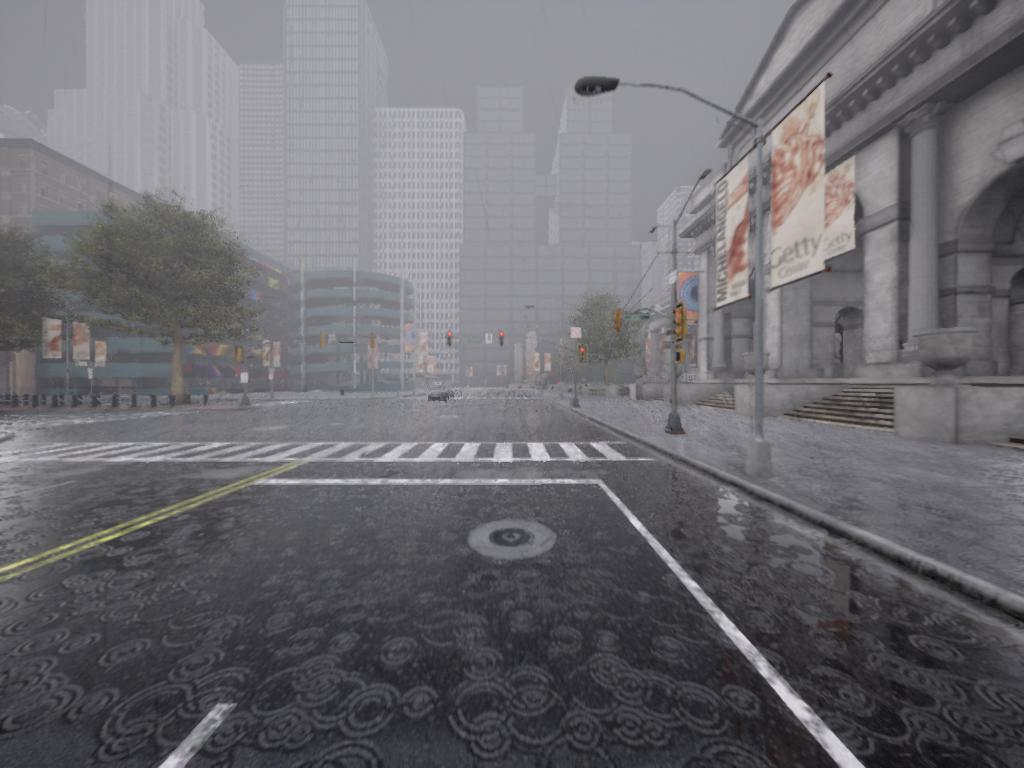traffic_light: (673, 313, 689, 343), (613, 312, 623, 334), (235, 348, 245, 365), (676, 350, 686, 365), (581, 348, 590, 364), (498, 332, 506, 346), (447, 331, 454, 346), (320, 333, 326, 349), (371, 333, 376, 351)
